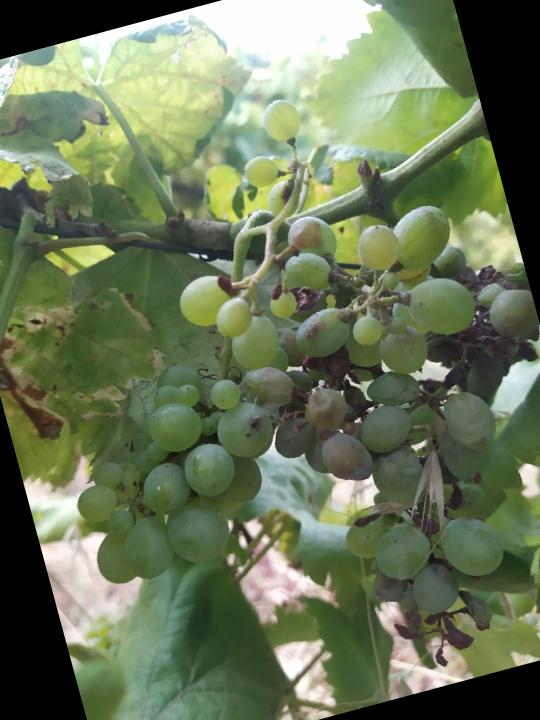grape: (162, 161, 540, 713)
